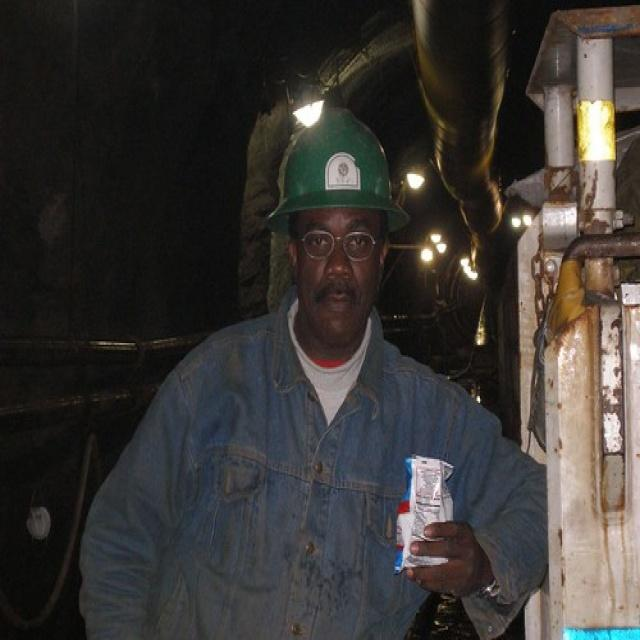helmet: (265, 148, 411, 305)
